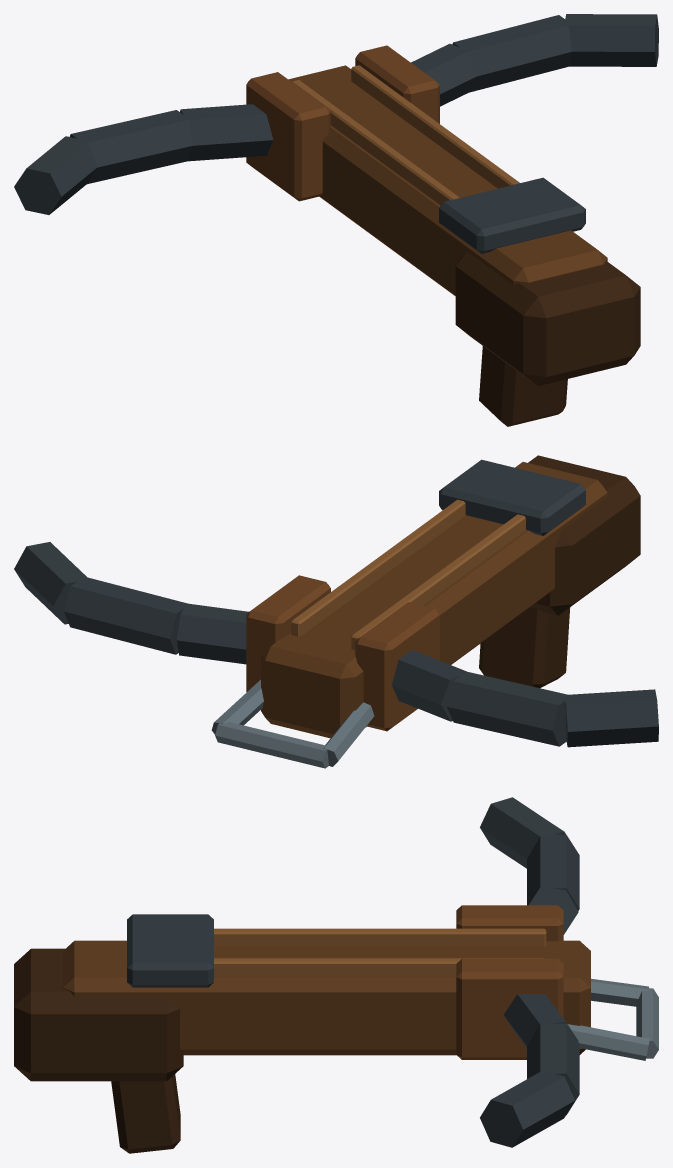
The model's file is Crossbow.glb.
3 renders of one model, top to bottom at view 1: azimuth 30°, elevation 25°; view 2: azimuth 150°, elevation 25°; view 3: azimuth 270°, elevation 25°, orthographic.
Visible parts, largest first — view 1: Sculpture; view 2: Sculpture; view 3: Sculpture.
Boxes of the visible parts, x1,y1,x2,y2 form: Sculpture: [14, 14, 658, 426]; Sculpture: [14, 455, 658, 768]; Sculpture: [14, 797, 658, 1153].
Bounding box in the file's own units: 0.7917 × 0.2373 × 0.684.
